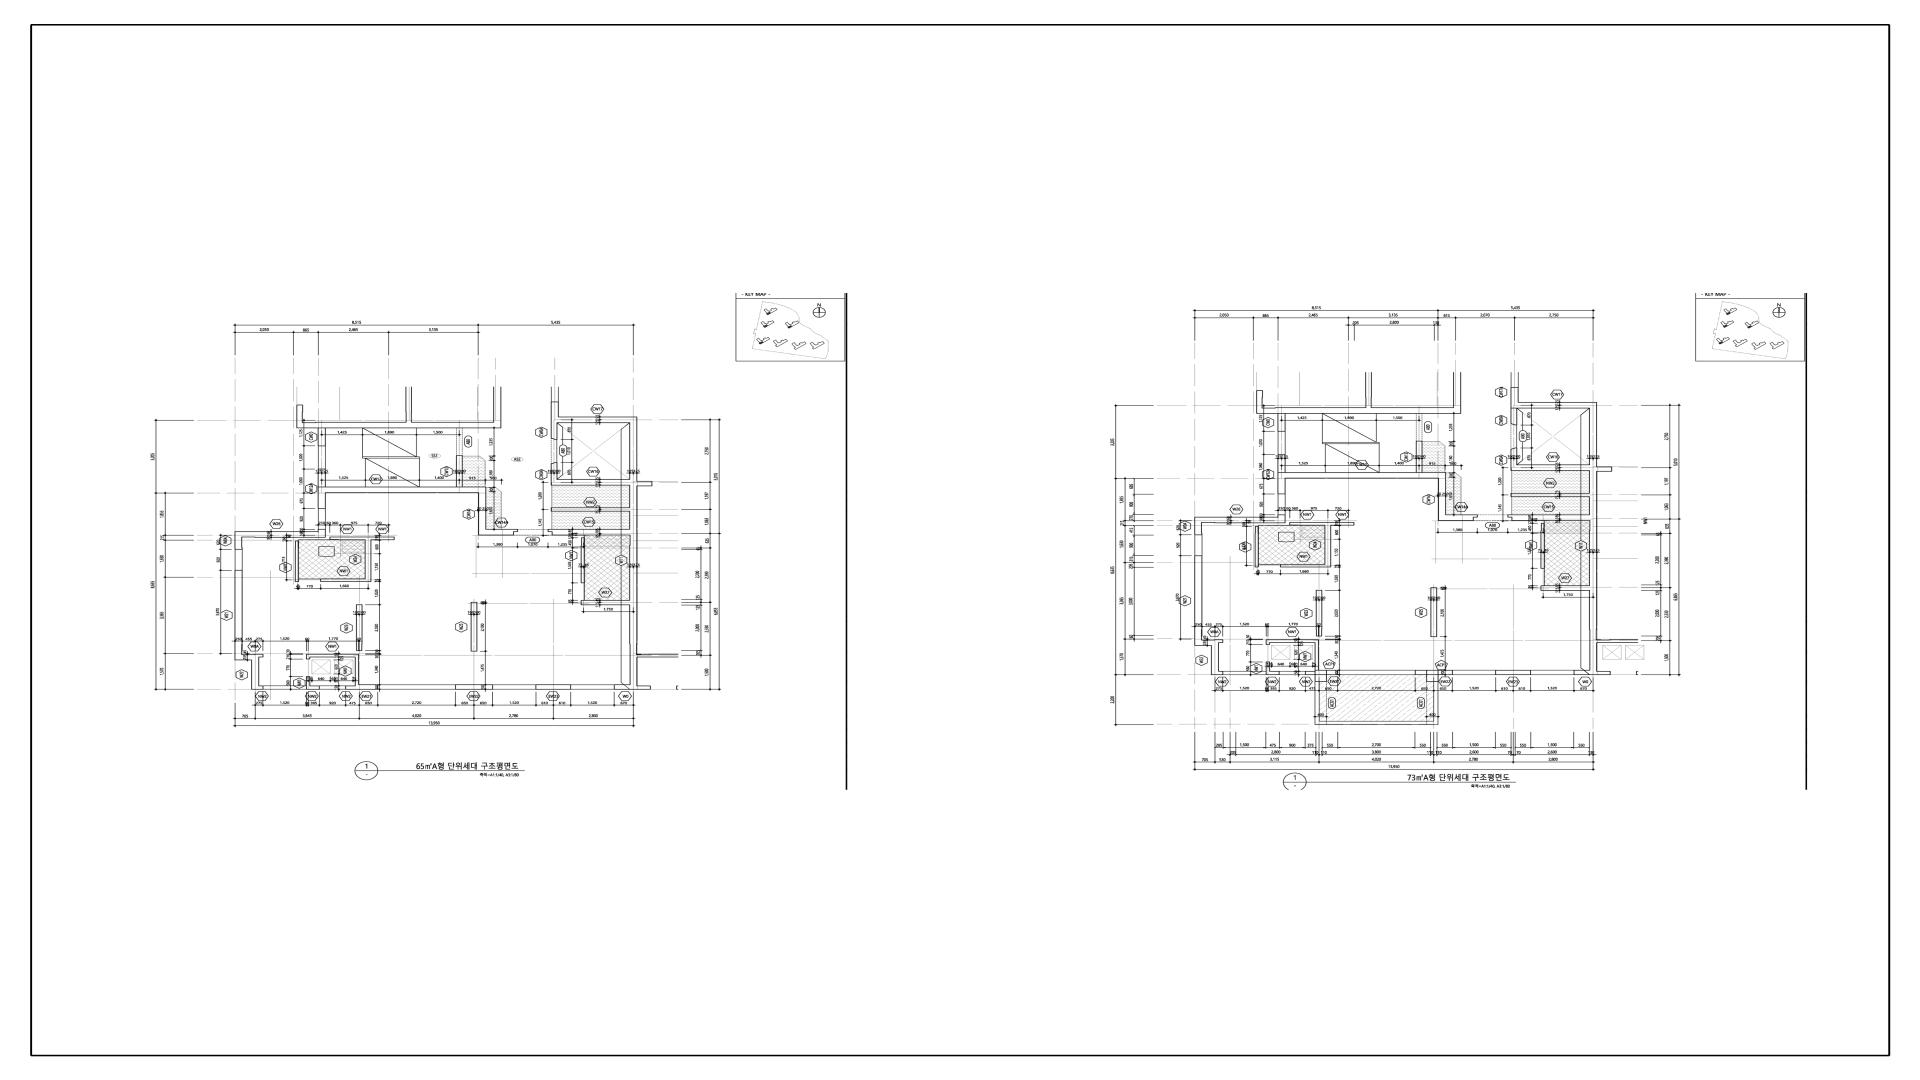wall: (629, 423, 638, 644), (1589, 409, 1597, 629), (326, 422, 501, 429), (1286, 407, 1461, 414), (326, 487, 487, 493), (1286, 472, 1447, 479), (235, 570, 243, 661), (1195, 555, 1203, 646), (547, 529, 629, 535), (1507, 514, 1589, 521), (559, 417, 637, 423), (1519, 402, 1597, 409), (243, 531, 318, 538), (1203, 517, 1278, 524), (558, 479, 629, 485), (1518, 464, 1589, 471), (471, 601, 477, 651), (1431, 587, 1437, 637), (1437, 479, 1447, 514), (1589, 629, 1597, 670), (356, 604, 363, 651), (630, 645, 638, 684), (1316, 589, 1323, 637), (551, 508, 629, 512), (1511, 493, 1589, 497), (551, 402, 559, 440), (1511, 388, 1519, 426), (1324, 526, 1332, 564), (479, 493, 487, 529), (493, 386, 501, 422), (1453, 372, 1461, 407), (1437, 514, 1478, 521), (479, 529, 518, 535), (580, 600, 629, 605), (1540, 585, 1589, 591), (330, 537, 394, 541), (1290, 522, 1354, 526), (365, 541, 372, 579), (580, 538, 585, 583), (1540, 524, 1545, 568), (456, 455, 463, 487), (1416, 440, 1423, 472), (455, 684, 493, 690), (1415, 670, 1453, 675), (252, 661, 260, 686), (1211, 646, 1218, 671), (535, 684, 571, 690), (318, 422, 326, 446), (1495, 670, 1531, 675), (1278, 407, 1286, 431), (310, 654, 355, 658), (318, 487, 326, 509), (1270, 640, 1315, 644), (1278, 472, 1286, 495), (345, 684, 378, 690), (1305, 670, 1338, 675), (295, 541, 299, 582), (1255, 526, 1259, 567), (551, 463, 558, 485), (1511, 448, 1518, 471), (235, 531, 243, 550), (318, 468, 326, 487), (1195, 517, 1203, 535), (1278, 454, 1286, 472), (243, 654, 264, 661), (1203, 640, 1224, 646), (320, 579, 372, 582), (1280, 564, 1331, 567), (1573, 670, 1597, 675), (355, 654, 359, 684), (1315, 640, 1319, 670), (615, 684, 637, 690), (318, 529, 326, 538), (1278, 514, 1286, 524), (306, 686, 319, 690), (1211, 671, 1224, 675), (1266, 671, 1279, 675), (252, 686, 264, 690), (306, 676, 310, 686), (1266, 662, 1270, 671), (306, 654, 310, 659), (1266, 640, 1270, 645)
